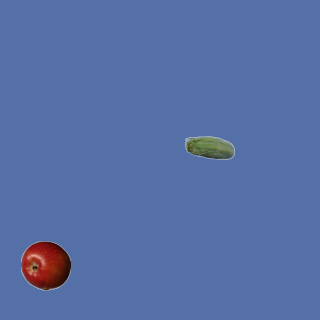Apple Braeburn: (20, 240, 70, 290)
Corn Husk: (184, 124, 234, 174)
